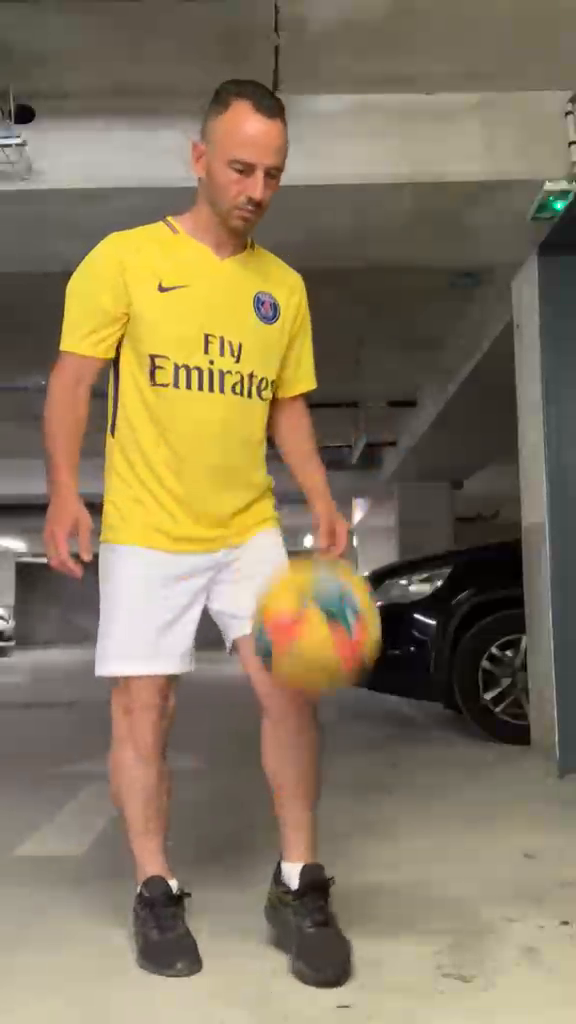ball: (249, 553, 392, 696)
